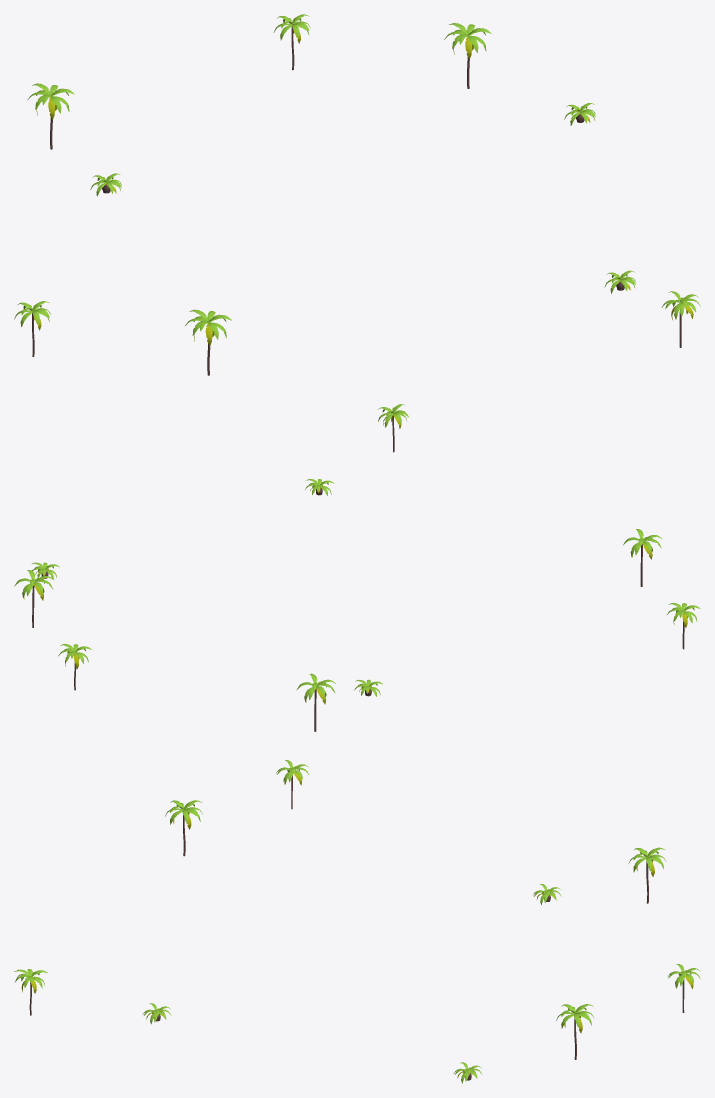
The model's file is Big props.glb.
3 renders of one model, top to bottom at view 1: azimuth 30°, elevation 25°; view 2: azimuth 150°, elevation 25°; view 3: azimuth 270°, elevation 25°, orthographic. The views are drawn at different scales.
Visible parts, largest first — view 1: Foglie_Material.001_0; view 2: no part large enough to name; view 3: no part large enough to name.
Boxes of the visible parts, <box> form: Foglie_Material.001_0: <box>27,83,74,113</box>.
Size of the model in its own units: 111 by 9.63 by 114.
